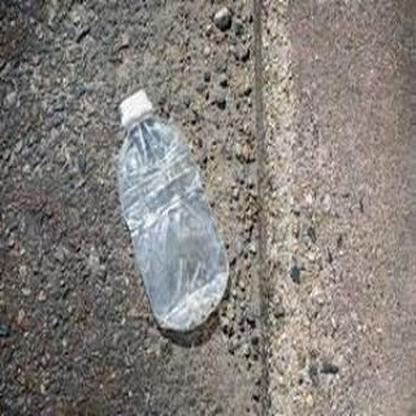plastic bottle: (116, 89, 231, 333)
